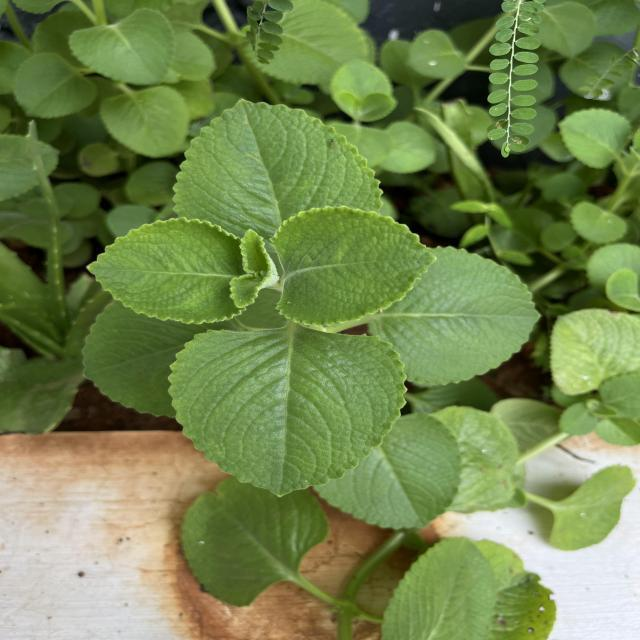Plectranthus barbatus: (164, 324, 411, 498), (364, 244, 544, 389), (170, 96, 384, 216), (268, 204, 441, 327), (84, 216, 276, 324), (180, 474, 330, 608), (311, 410, 463, 530), (68, 8, 178, 88), (547, 306, 640, 396), (546, 463, 637, 552), (98, 85, 190, 159), (12, 52, 98, 120), (556, 107, 634, 171)
